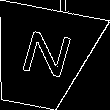N_S: (11, 28, 73, 87)
